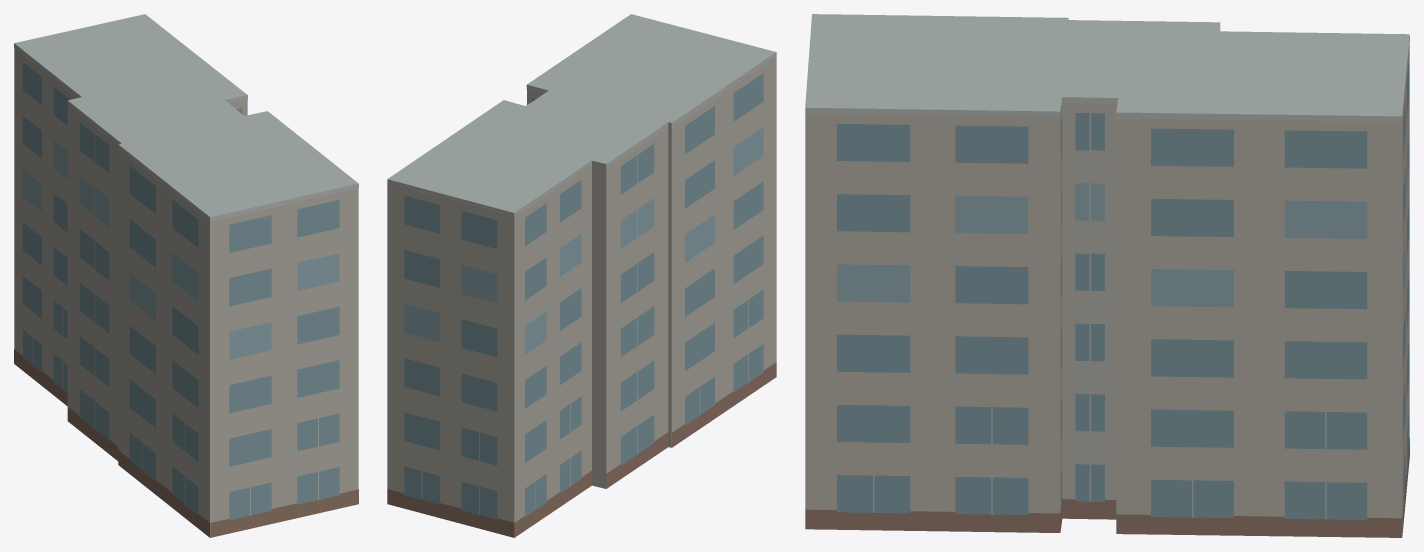
File: survey-upis-32570402.glb
3 views of the same model, side by side, from view 1: azimuth 30°, elevation 25°; view 2: azimuth 150°, elevation 25°; view 3: azimuth 270°, elevation 25° (orthographic). The views are drawn at different scales.
Visible parts, largest first — view 1: survey-upis-32570402.tmp; view 2: survey-upis-32570402.tmp; view 3: survey-upis-32570402.tmp.
Part boxes in pixels (x1,y1,x2,y2): survey-upis-32570402.tmp: (14, 14, 358, 537); survey-upis-32570402.tmp: (387, 14, 776, 537); survey-upis-32570402.tmp: (805, 14, 1409, 537).
Bounding box in the file's own units: 9.07 × 17.4 × 22.63.
